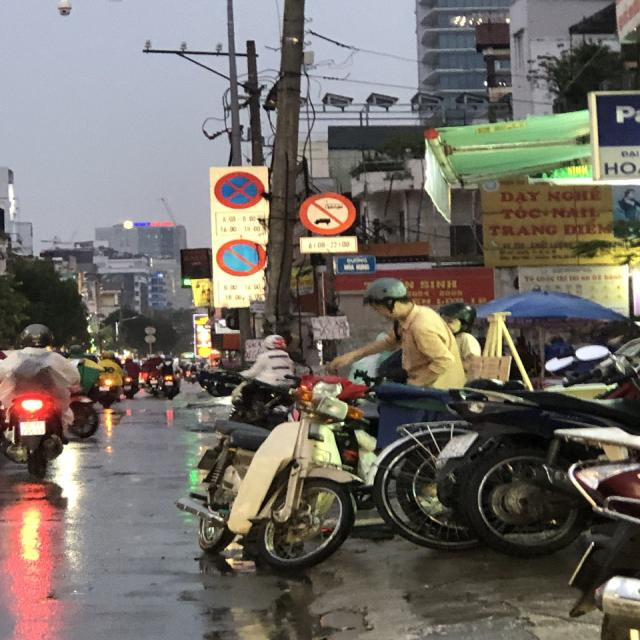Bien bao cam dung xe va do xe: (211, 168, 265, 209)
Bien bao cam xe oto khach va xe oto tai: (298, 190, 361, 236)
